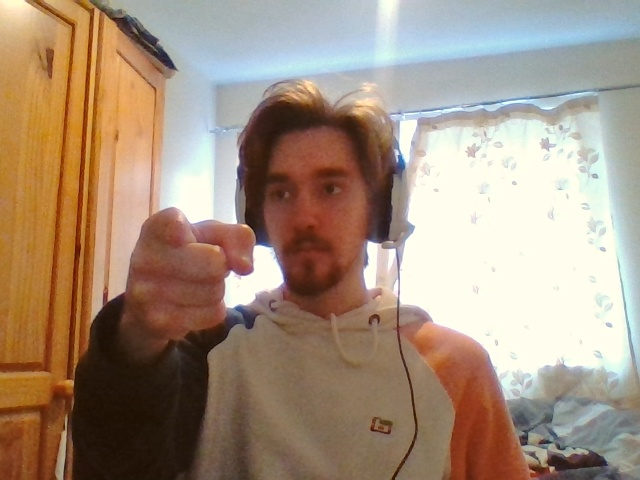you: (130, 207, 256, 338)
